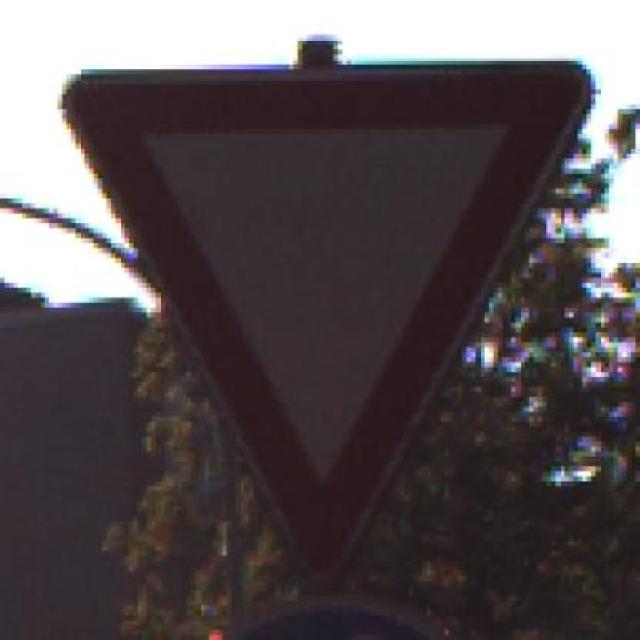Give Way: (44, 44, 614, 616)
